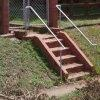stairs: (42, 34, 100, 81)
